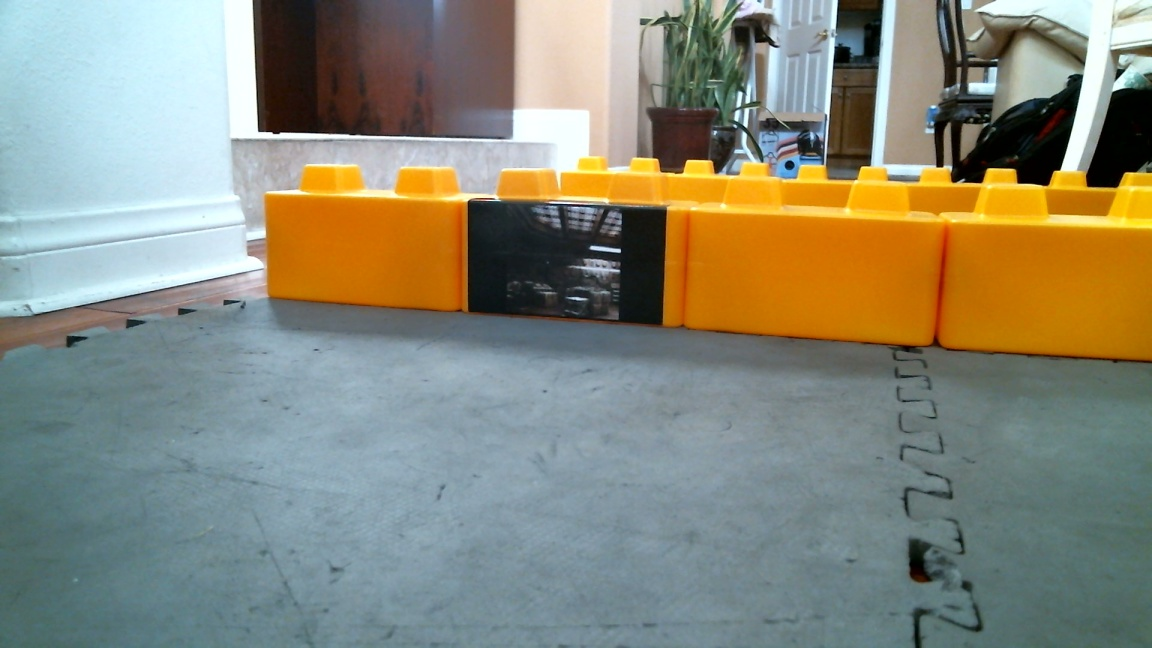skystone: (464, 168, 686, 329)
stone: (683, 177, 939, 348), (938, 183, 1152, 365), (265, 163, 463, 311)
